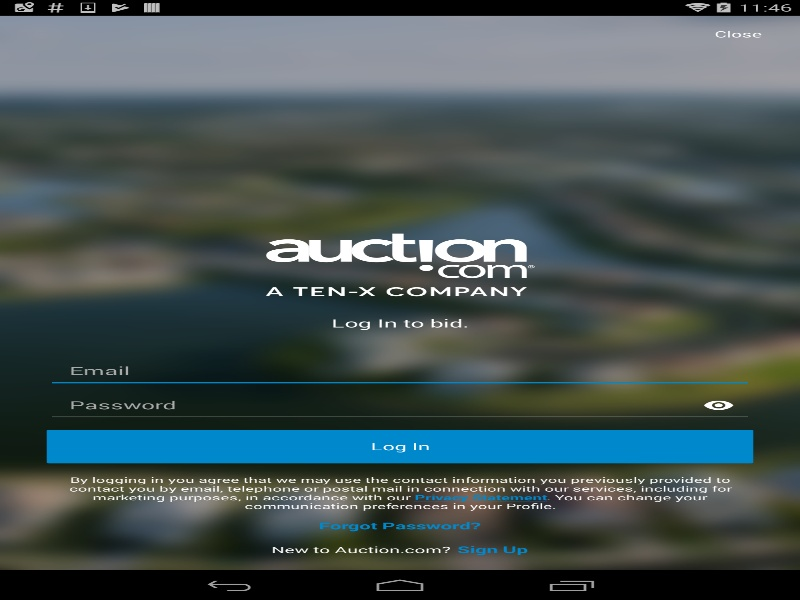Button: (46, 429, 753, 463)
Input: (46, 388, 753, 422), (46, 354, 753, 387)
